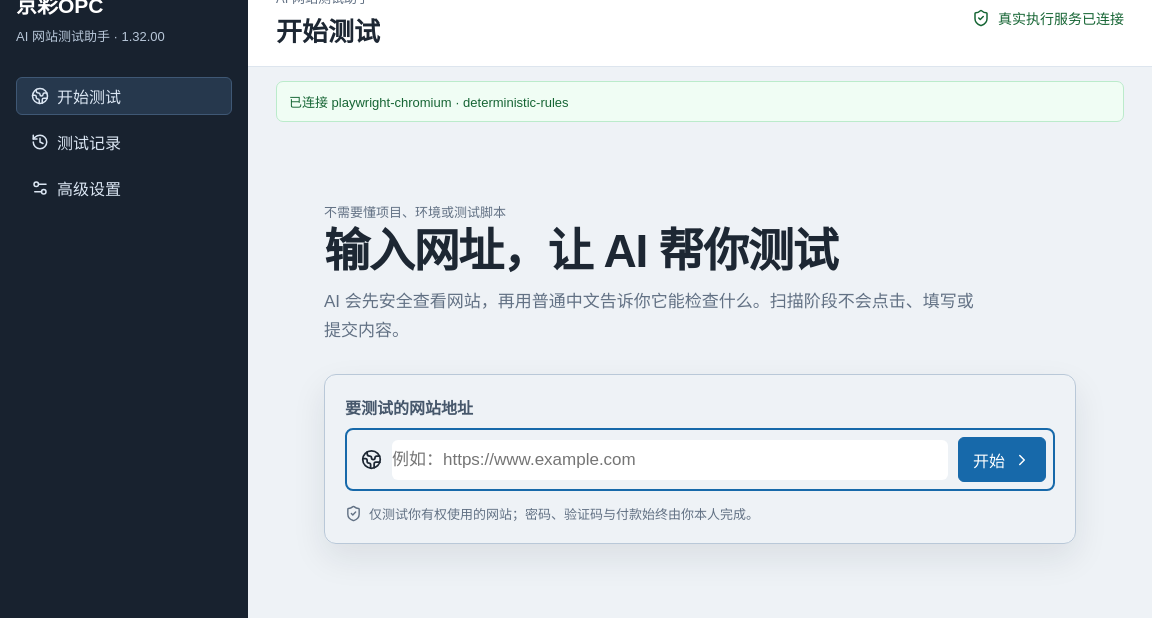
Test: App › configures AI in memory and enables AI planning after a real connection test
Expected: the text "真实执行服务已连接" is shown, [998, 8, 1124, 28]
Step 1. Click the button "高级设置" → (124, 188), box [16, 169, 232, 207]
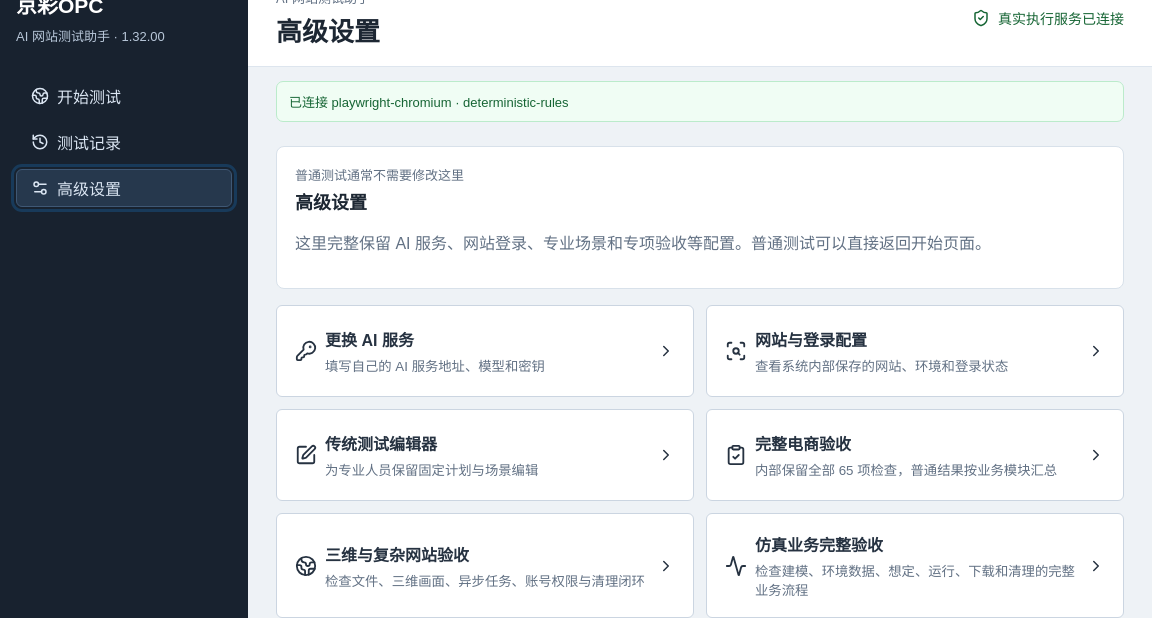
Step 2. Click the button "更换 AI 服务 填写自己的 AI 服务地址、模型和密钥" → (369, 340), box [276, 305, 694, 397]
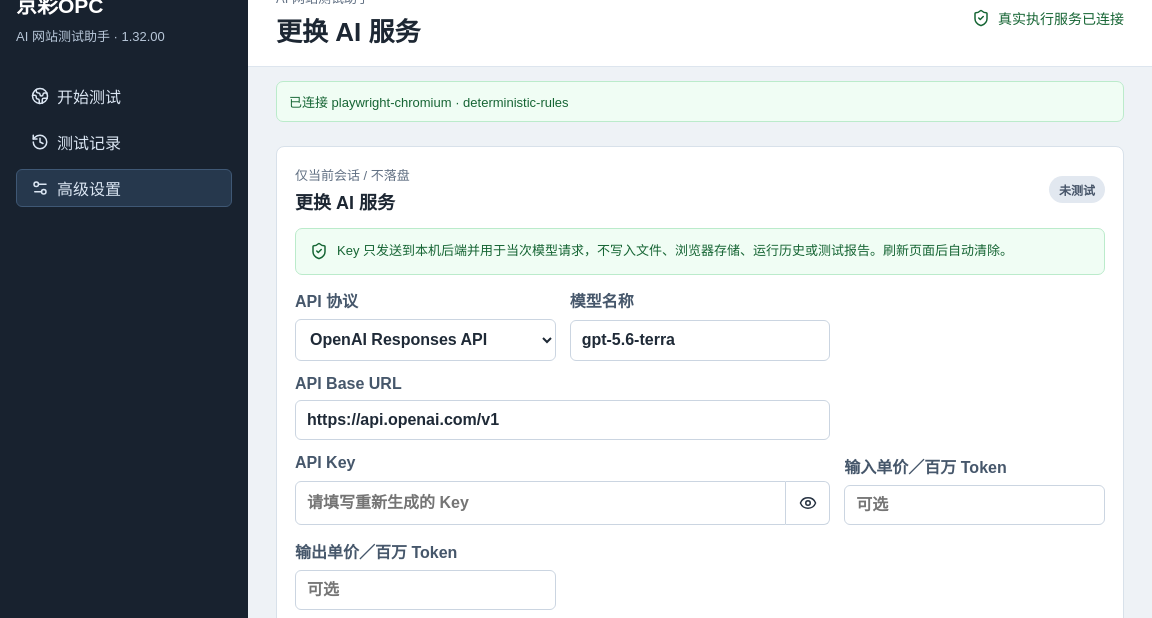
Step 3. Type "new-test-key" into the password field labelled "API Key" → (541, 503), box [295, 481, 786, 525]
(page scrolled)
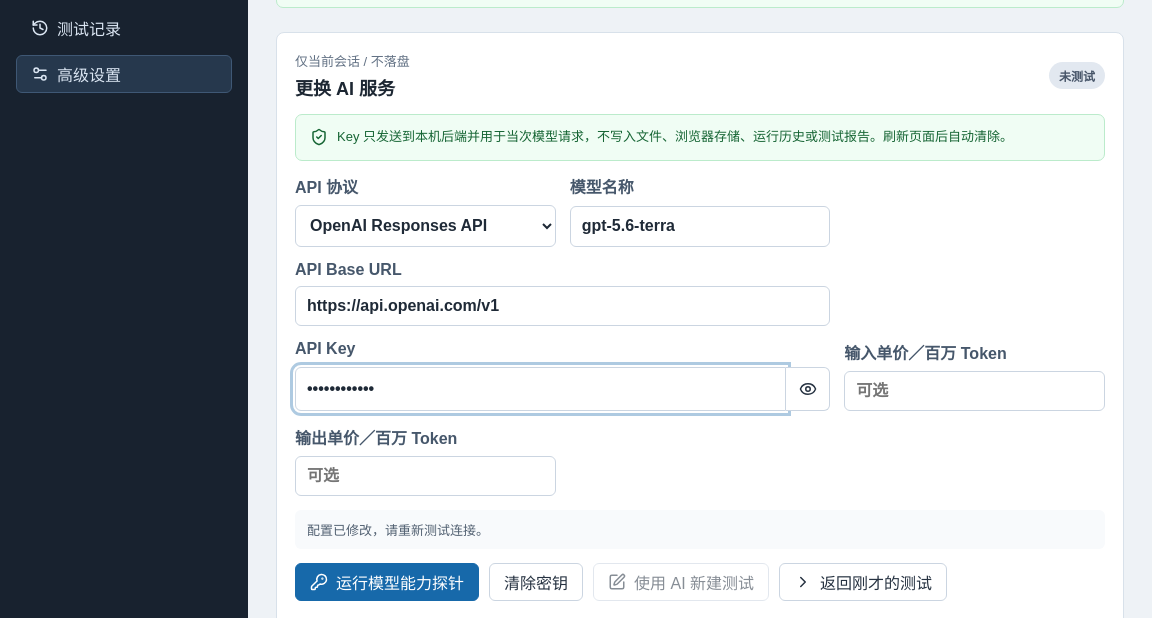
Step 4. Click the button "运行模型能力探针" → (387, 582), box [295, 563, 479, 601]
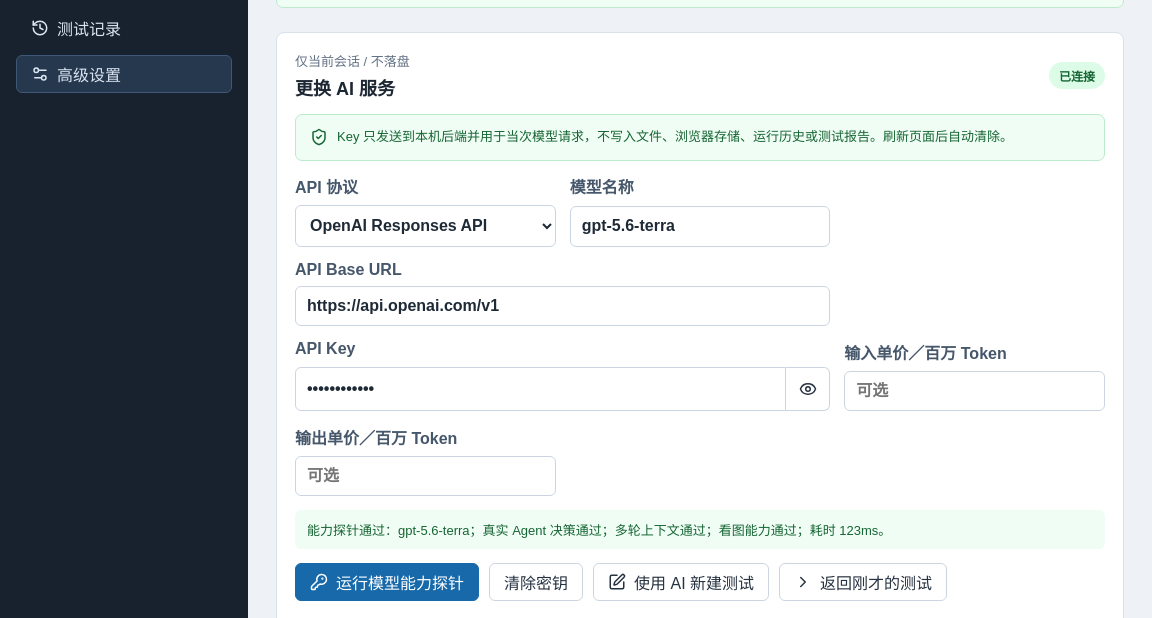
Now the text "能力探针通过：gpt-5.6-terra" is shown, box [307, 523, 891, 538]
Now the button "使用 AI 新建测试" is enabled, box [593, 563, 769, 601]
